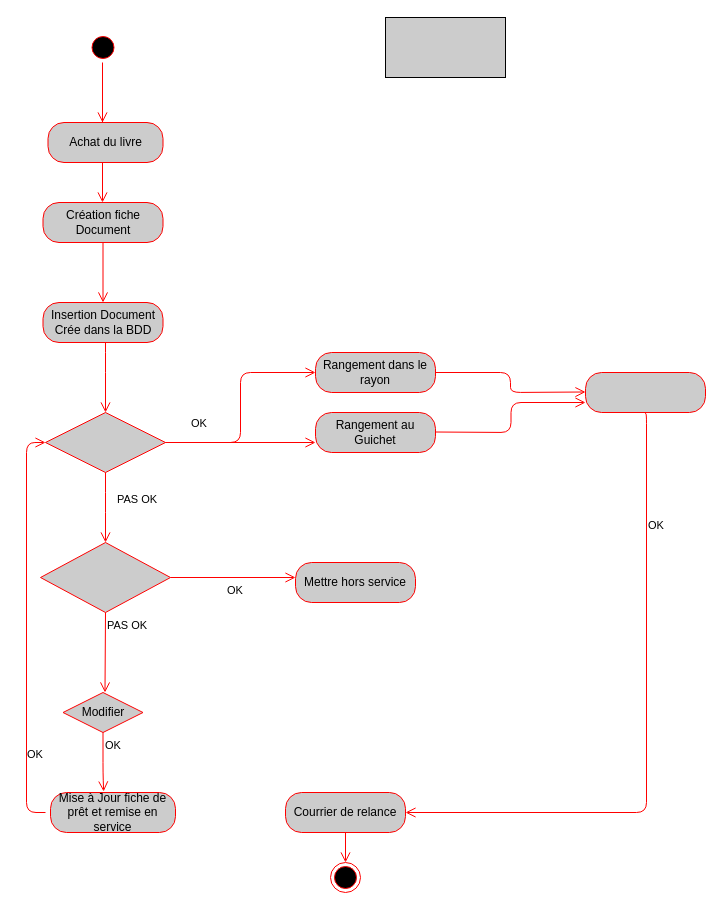
The diagram is 723 pixels wide and 910 high, and some of its shapes have lost their labels. The shapes that lost their labels are listed below. From the top down, each one's box as (x1, y1, x2, y2) in pixels, then its label:
(384, 16, 506, 78): Diagramme du Cycle de vie d'un produit
(584, 372, 706, 412): Emprunt ou Consultation
(44, 412, 166, 472): Document Bon état
(40, 542, 170, 612): Abîmé volé ou perdu
